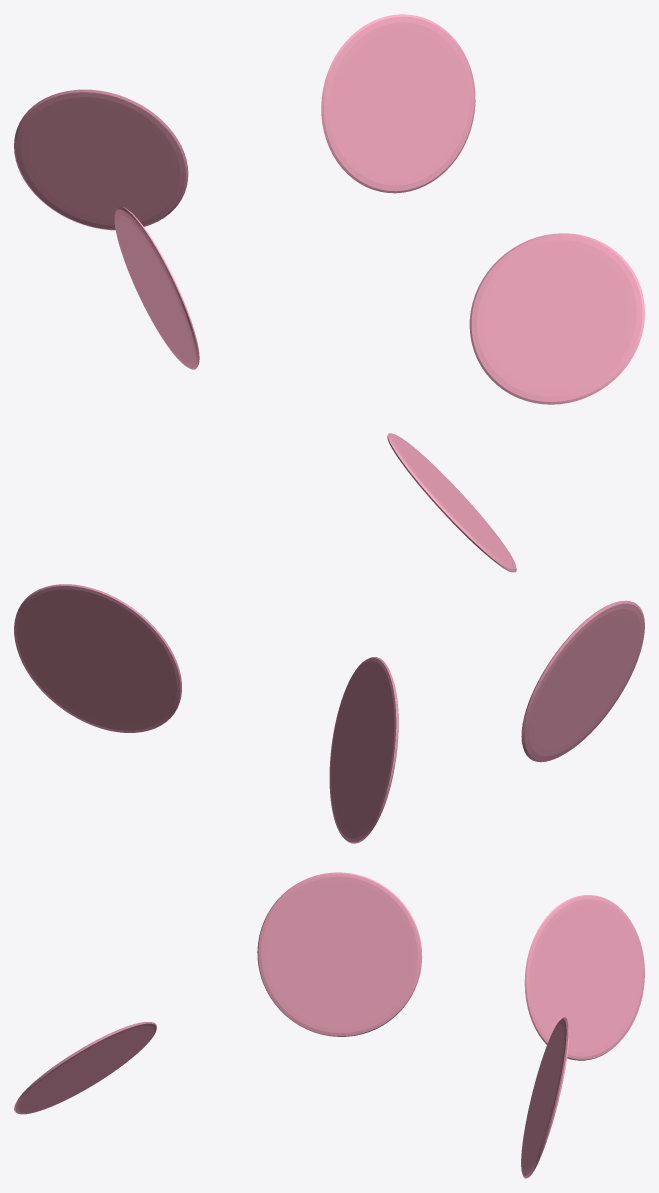
Rendered from cakeDecorPinkChocolate.glb.
3 views of the same model, one above another, from view 1: azimuth 30°, elevation 25°; view 2: azimuth 150°, elevation 25°; view 3: azimuth 270°, elevation 25° (orthographic). The views are drawn at different scales.
Visible parts, largest first — view 1: Circle.002, Circle, Circle.001, Circle.003; view 2: Circle, Circle.003, Circle.001, Circle.002; view 3: Circle.003, Circle.001, Circle.002, Circle.
Part boxes in pixels (<box>): Circle.002: <box>469,233,644,404</box>; Circle: <box>321,14,475,193</box>; Circle.001: <box>14,89,188,230</box>; Circle.003: <box>114,206,199,369</box>; Circle: <box>14,584,181,732</box>; Circle.003: <box>521,600,644,762</box>; Circle.001: <box>329,657,398,843</box>; Circle.002: <box>387,433,516,572</box>; Circle.003: <box>257,872,422,1036</box>; Circle.001: <box>524,895,644,1060</box>; Circle.002: <box>14,1022,156,1114</box>; Circle: <box>521,1017,569,1178</box>.
Bounding box in the file's own units: 1.09 × 0.3971 × 1.42.
